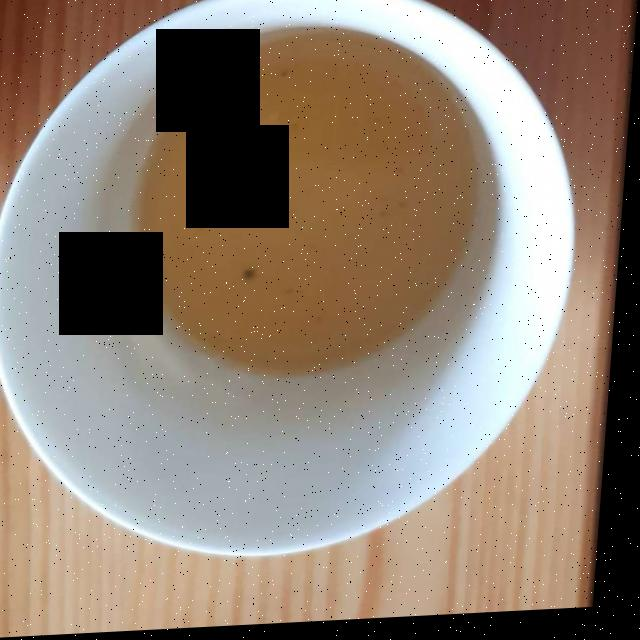tea: (137, 46, 487, 377)
